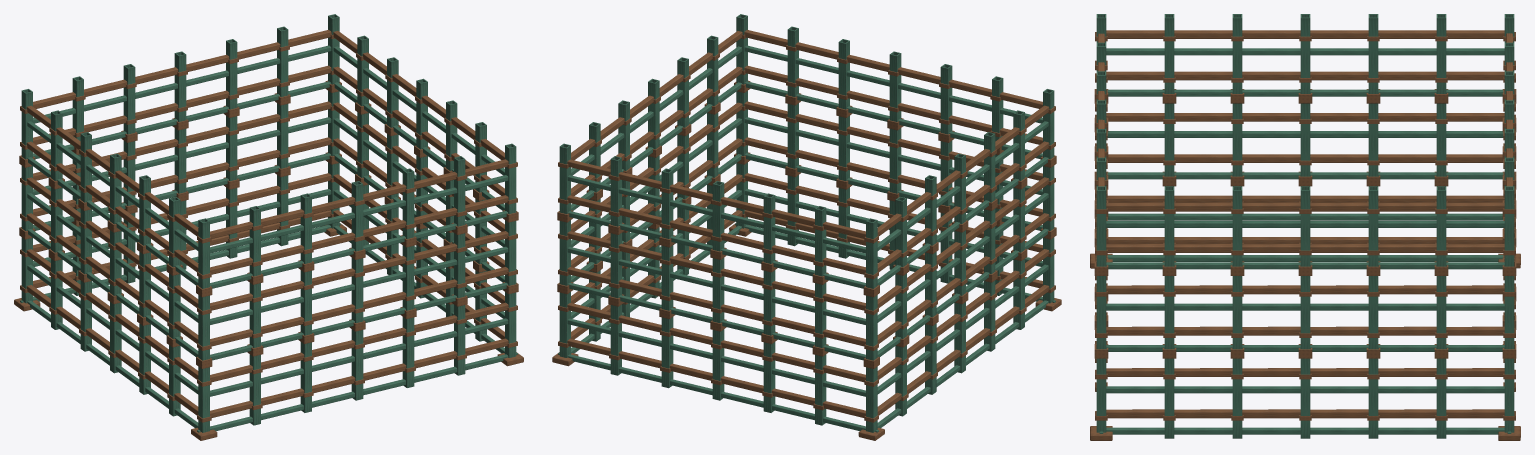
3 views of the same model, side by side, from view 1: azimuth 30°, elevation 25°; view 2: azimuth 150°, elevation 25°; view 3: azimuth 270°, elevation 25° (orthographic). The views are drawn at different scales.
Visible parts, largest first — view 1: Tier 2 side 0 post 3, Tier 2 side 2 post 4, Tier 2 side 2 post 3, Tier 0 side 0 post 4, Tier 2 side 0 post 4, Tier 2 side 0 post 0, Tier 0 side 0 post 3, Tier 2 side 2 post 2, Tier 2 side 0 post 5, Tier 2 side 1 post 0, Tier 2 side 2 post 1, Tier 0 side 0 post 5 (+47 smaller); view 2: Tier 2 side 2 post 3, Tier 2 side 0 post 2, Tier 2 side 2 post 4, Tier 2 side 2 post 2, Tier 0 side 2 post 2, Tier 2 side 0 post 3, Tier 0 side 2 post 4, Tier 2 side 3 post 0, Tier 0 side 2 post 3, Tier 2 side 0 post 4, Tier 2 side 2 post 0, Tier 2 side 2 post 1 (+47 smaller); view 3: Tier 2 side 1 post 0, Tier 2 side 1 post 1, Tier 2 side 1 post 2, Tier 2 side 1 post 3, Tier 2 side 1 post 4, Tier 2 side 1 post 5, Tier 2 side 2 post 0, Tier 0 side 1 post 1, Tier 0 side 1 post 2, Tier 0 side 1 post 3, Tier 0 side 1 post 4, Tier 0 side 1 post 5 (+139 smaller).
Boxes of the visible parts, x1,y1,x2,y2 form: Tier 2 side 0 post 3: (351, 181, 363, 251); Tier 2 side 2 post 4: (123, 64, 135, 134); Tier 2 side 2 post 3: (174, 51, 186, 121); Tier 0 side 0 post 4: (402, 317, 414, 387); Tier 2 side 0 post 4: (402, 168, 414, 238); Tier 2 side 0 post 0: (198, 218, 209, 288); Tier 0 side 0 post 3: (351, 329, 363, 400); Tier 2 side 2 post 2: (226, 39, 237, 109); Tier 2 side 0 post 5: (454, 156, 465, 226); Tier 2 side 1 post 0: (505, 143, 516, 213); Tier 2 side 2 post 1: (277, 26, 288, 96); Tier 0 side 0 post 5: (454, 304, 465, 375); Tier 2 side 2 post 3: (712, 181, 724, 251); Tier 2 side 0 post 2: (940, 64, 952, 134); Tier 2 side 2 post 4: (763, 193, 775, 263); Tier 2 side 2 post 2: (661, 168, 673, 238); Tier 0 side 2 post 2: (661, 317, 673, 388); Tier 2 side 0 post 3: (889, 51, 901, 121); Tier 0 side 2 post 4: (763, 342, 775, 412); Tier 2 side 3 post 0: (866, 218, 877, 288); Tier 0 side 2 post 3: (712, 329, 724, 400); Tier 2 side 0 post 4: (838, 39, 849, 109); Tier 2 side 2 post 0: (559, 143, 570, 213); Tier 2 side 2 post 1: (610, 156, 621, 226); Tier 2 side 1 post 0: (1096, 186, 1106, 266); Tier 2 side 1 post 1: (1164, 186, 1174, 266); Tier 2 side 1 post 2: (1232, 186, 1242, 266); Tier 2 side 1 post 3: (1300, 186, 1310, 266); Tier 2 side 1 post 4: (1368, 186, 1378, 266); Tier 2 side 1 post 5: (1436, 186, 1446, 266); Tier 2 side 2 post 0: (1504, 186, 1514, 266); Tier 0 side 1 post 1: (1164, 358, 1174, 438); Tier 0 side 1 post 2: (1232, 358, 1242, 438); Tier 0 side 1 post 3: (1300, 358, 1310, 438); Tier 0 side 1 post 4: (1368, 358, 1378, 438); Tier 0 side 1 post 5: (1436, 358, 1446, 438).
Bounding box in the file's own units: 2.85 × 1.81 × 2.85.
2 materials, 2 textured.
